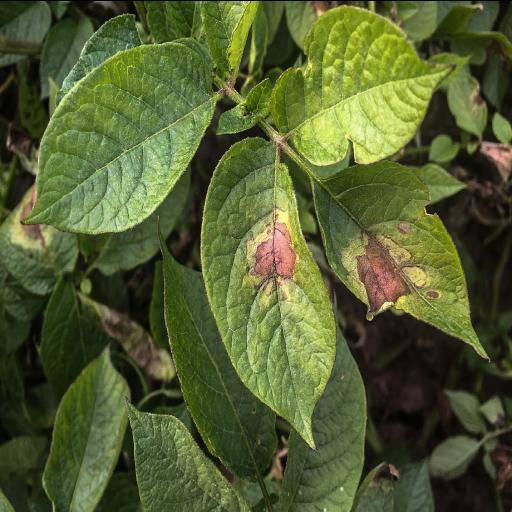Late Blight: (197, 133, 329, 443), (308, 166, 492, 362), (2, 166, 82, 294)
